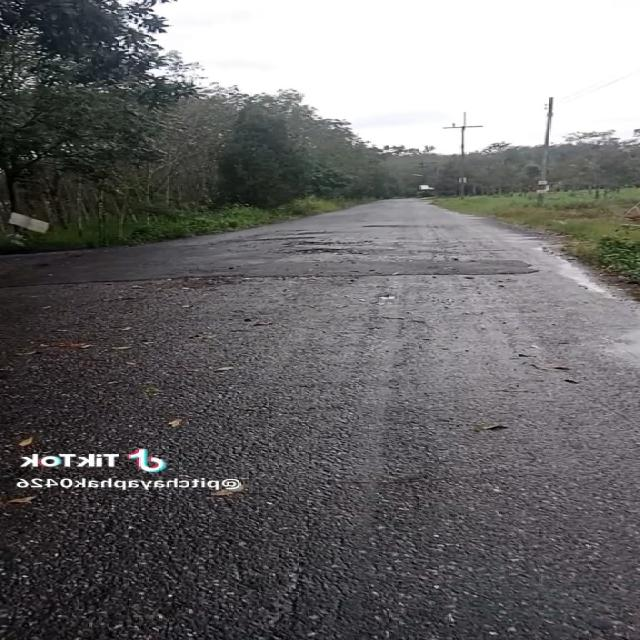Poth-hole: (226, 227, 372, 268)
